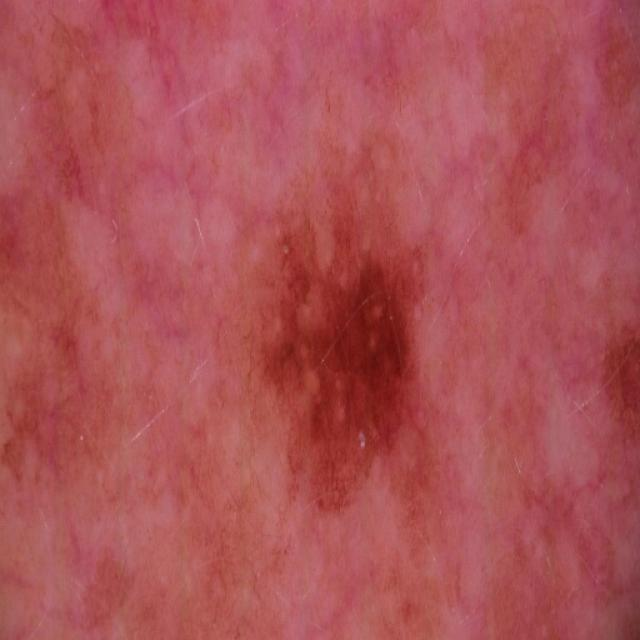Melanoma: (265, 170, 408, 510)
